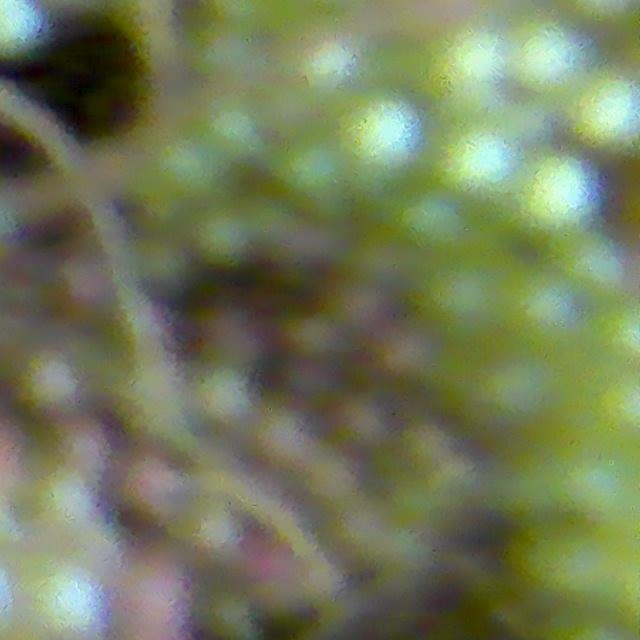SeaGrape: (334, 89, 428, 187), (270, 127, 359, 223), (422, 21, 511, 117), (495, 263, 586, 355), (417, 254, 508, 344), (514, 150, 601, 241), (138, 128, 227, 213), (433, 121, 521, 203), (473, 350, 559, 430), (508, 20, 591, 101), (26, 560, 109, 640), (103, 450, 176, 535), (568, 69, 640, 155), (113, 549, 183, 637), (196, 89, 270, 169), (389, 188, 468, 259), (560, 230, 634, 305), (295, 32, 366, 103), (591, 295, 639, 376), (594, 370, 639, 435)
